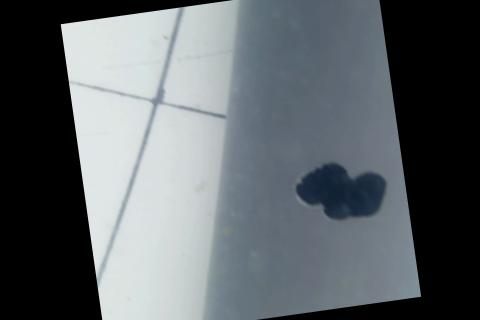kebocoran: (287, 151, 393, 227)
